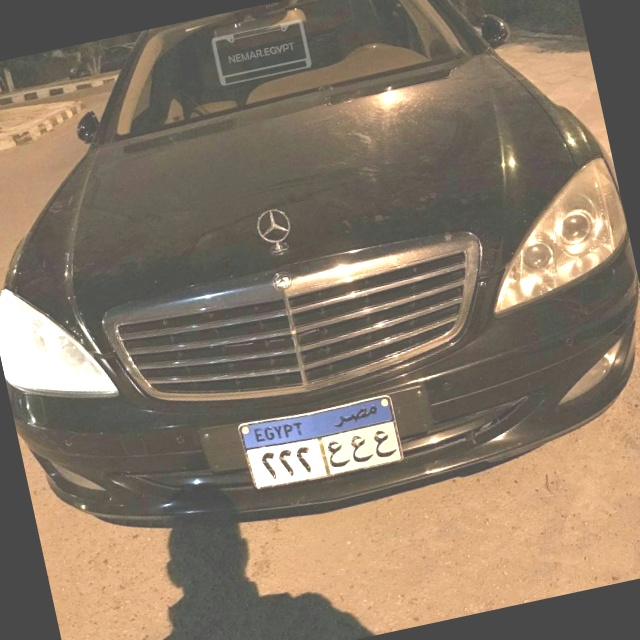License Plate: (232, 385, 410, 499)
